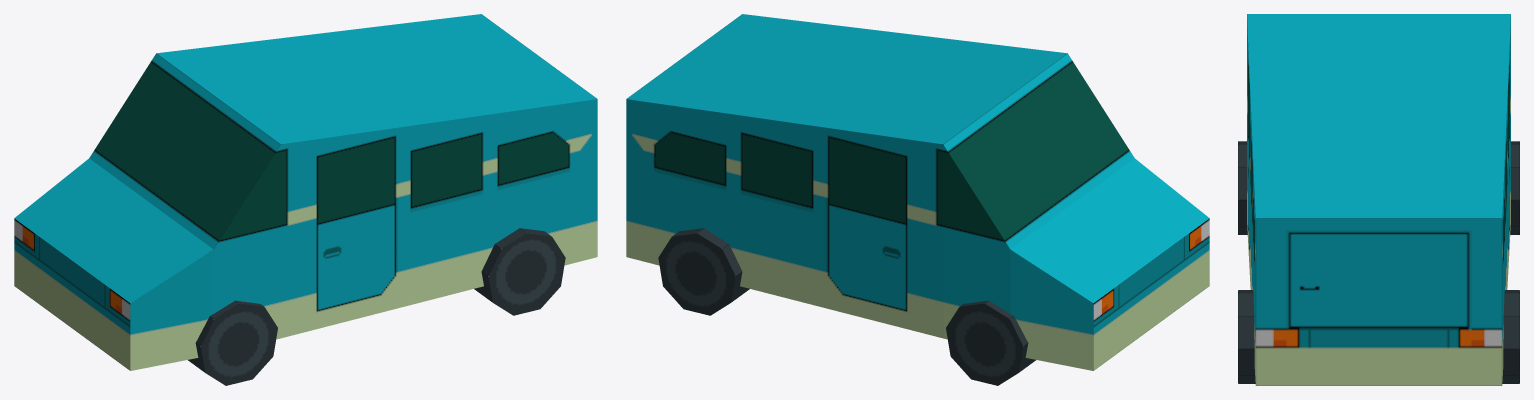
Rendered from coolvan.fbx.
The picture shows the model from 3 angles, left to right: view 1: azimuth 30°, elevation 25°; view 2: azimuth 150°, elevation 25°; view 3: azimuth 270°, elevation 25°; orthographic projection. The views are drawn at different scales.
Visible parts, largest first — view 1: group, cylinder_1, cylinder; view 2: group, cylinder_2, cylinder_3; view 3: group, cylinder_1, cylinder_2, cylinder, cylinder_3.
Part boxes in pixels (<box>): group: <box>14,14,597,370</box>; cylinder_1: <box>474,228,565,315</box>; cylinder: <box>188,300,277,385</box>; group: <box>626,14,1209,370</box>; cylinder_2: <box>658,228,749,315</box>; cylinder_3: <box>946,300,1035,385</box>; group: <box>1247,14,1510,385</box>; cylinder_1: <box>1238,290,1255,383</box>; cylinder_2: <box>1502,290,1519,383</box>; cylinder: <box>1238,141,1247,234</box>; cylinder_3: <box>1510,141,1519,234</box>.
Bounding box in the file's own units: 406 × 186 × 200.
1 material, 1 textured.
